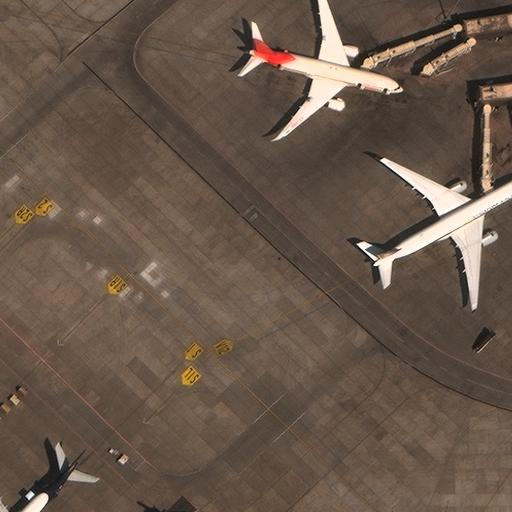Large Civil Transport: (248, 0, 404, 135), (374, 157, 511, 307), (0, 445, 91, 511)
